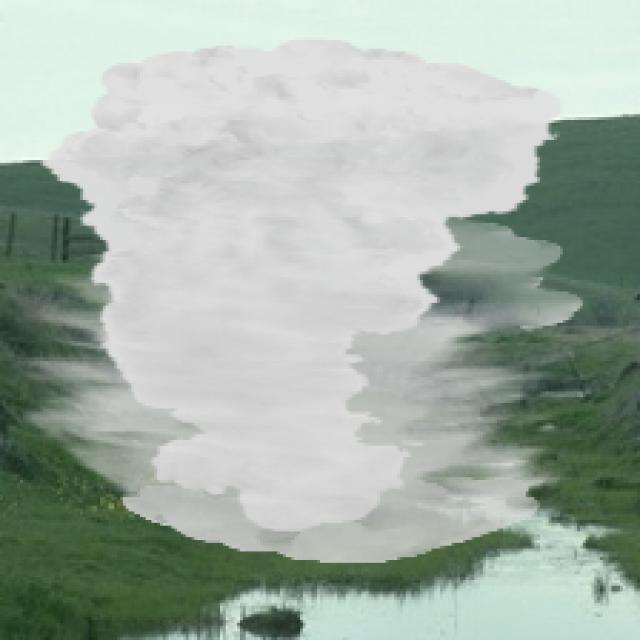smoke: (17, 37, 583, 563)
